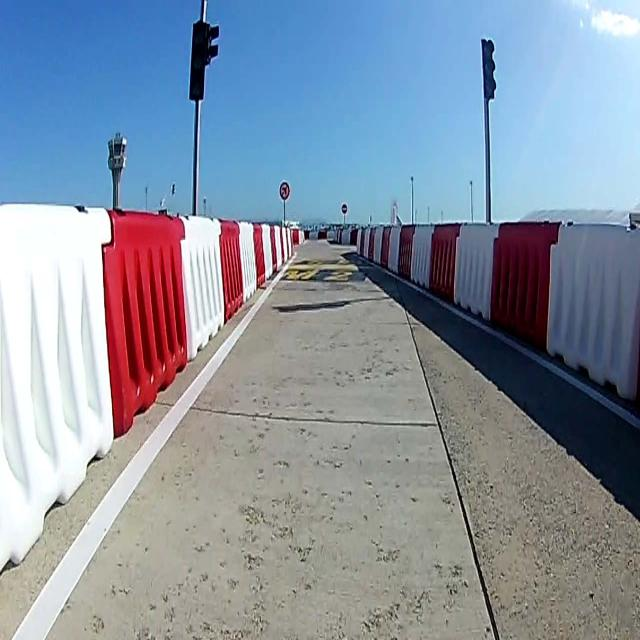girisyok: (341, 203, 347, 214)
soladonulmez: (279, 181, 289, 199)
